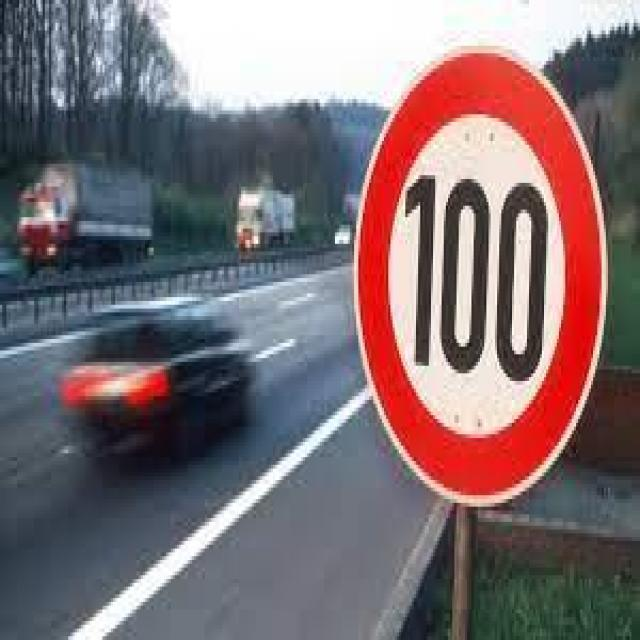speed limit 100: (350, 49, 608, 505)
